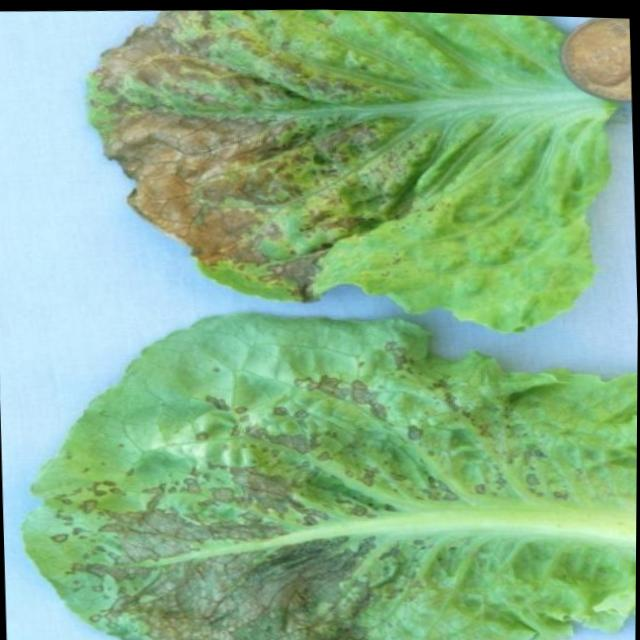Bad: (24, 315, 637, 640), (89, 10, 614, 331)
